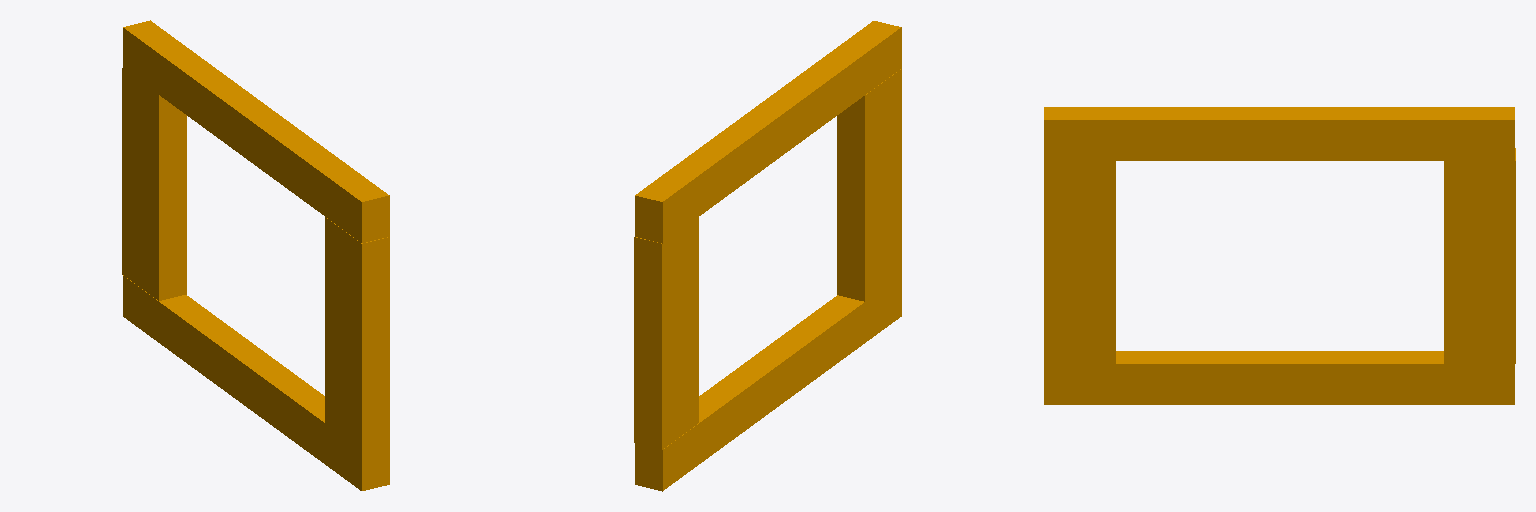
URDF robot description (gate):
<?xml version="1.0" ?>

<robot name="gate">

  <link name="base_link">

    <inertial>
      <origin rpy="0 0 0" xyz="0 0 0"/>
      <mass value="0."/>
      <inertia ixx="0" ixy="0.0" ixz="0.0" iyy="0" iyz="0.0" izz="0"/>
    </inertial>

    <visual>
      <origin rpy="0 0 0" xyz="0 0 0"/>
      <geometry>
        <mesh filename="./gate.obj" scale=" .06 .06 .06"/>
      </geometry>
      <material name="grey">
        <color rgba="1.0. 1.0. 0.5. 1"/>
      </material>
    </visual>

    <!-- <collision>
      <origin rpy="0 0 0" xyz="0 0 0"/>
      <geometry>
        <mesh filename="./tinker.obj" scale=" .06 .06 .06"/>
      </geometry>
    </collision> -->

  </link>

</robot>

--- Facts derived from the render (not from the file) ---
The picture shows the robot from 3 angles, left to right: view 1: azimuth 30°, elevation 25°; view 2: azimuth 150°, elevation 25°; view 3: azimuth 270°, elevation 25°; orthographic projection.
Robot: gate — 1 links, 0 joints (none); root link base_link; default pose: every joint at zero.
Links seen in each view (by area): view 1: base_link; view 2: base_link; view 3: base_link.
Boxes of the visible links, x1,y1,x2,y2 form: base_link: (122,20,389,490); base_link: (634,21,901,491); base_link: (1044,107,1515,404).
Bounding box of the posed robot: 0.12 × 1.8 × 1.2 m (x, y, z).
1 mesh visuals loaded from 1 distinct referenced files (1 OBJ).